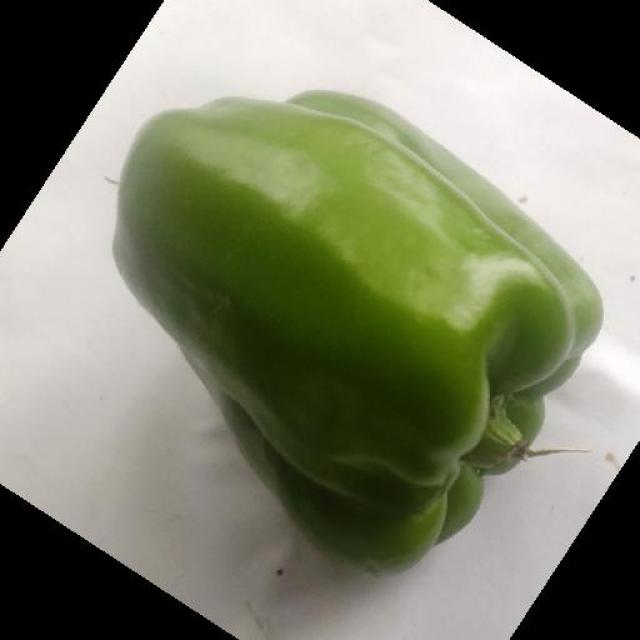Fresh_Capsicum: (98, 102, 580, 520)
